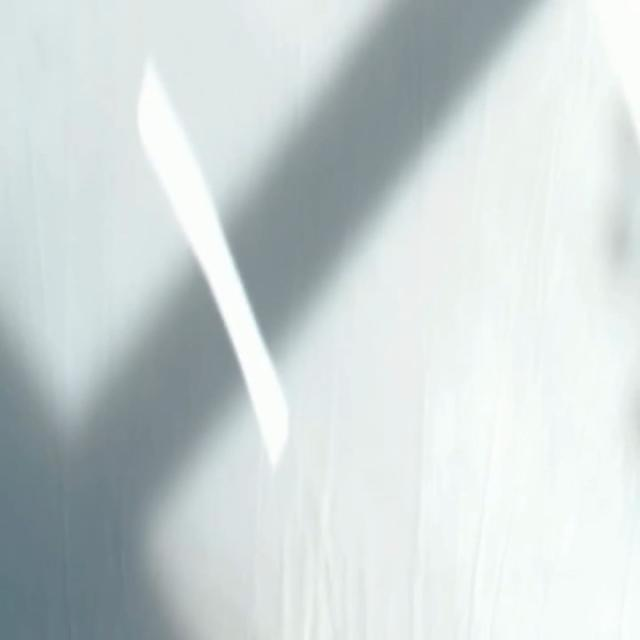center: (138, 59, 288, 466)
